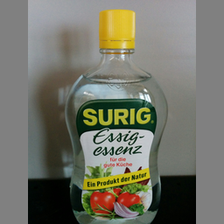vinegar: (59, 10, 167, 224)
